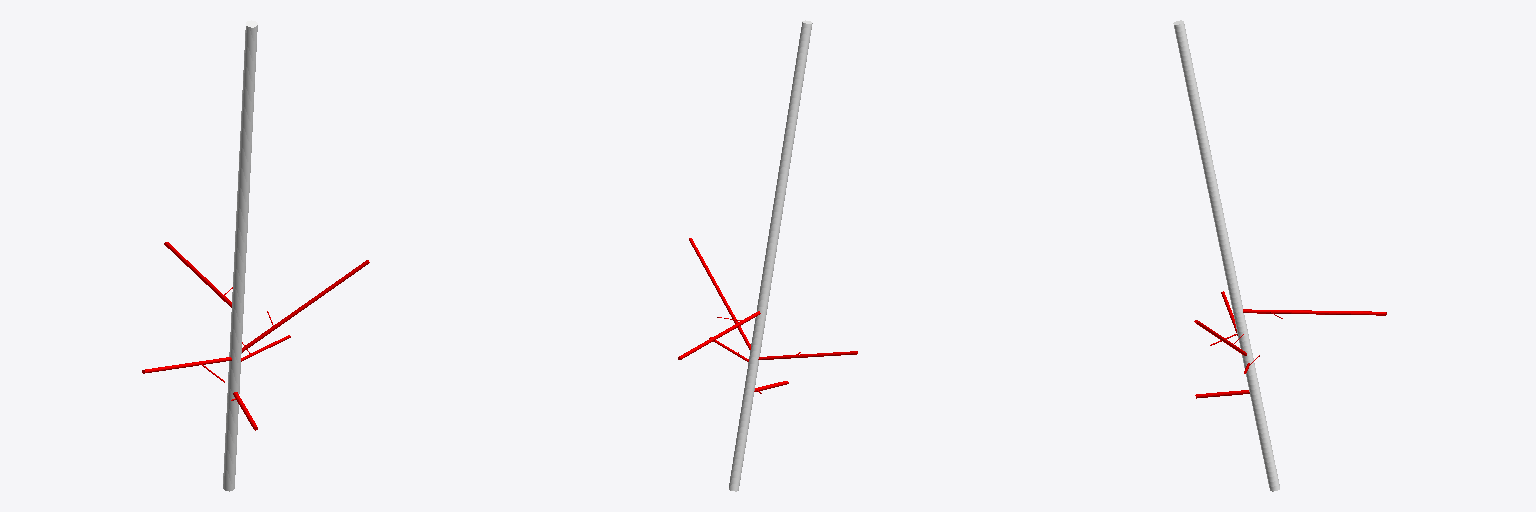
robot.urdf — tree_42.urdf:
<?xml version='1.0' encoding='UTF-8'?>
<robot name="tree_42.urdf">
  <link name="branch_0">
    <inertial>
      <origin xyz="0.0 0.0 0.0" rpy="0.0 -0.0 0.0"/>
      <mass value="0.1"/>
      <inertia ixx="0.001" ixy="0.0" ixz="0.0" iyy="0.001" iyz="0.0" izz="0.001"/>
    </inertial>
    <visual name="branch_0_visual">
      <geometry>
        <cylinder radius="0.12550144578736855" length="11.9668812540271"/>
      </geometry>
      <material name="branch_material"/>
      <origin xyz="-0.3767279269353214 -1.1313192091362532 5.86342516393811" rpy="-1.3877787807814457e-17 0.20062576816704825 -1.892245761334259"/>
    </visual>
    <collision name="branch_0_collision">
      <geometry>
        <cylinder radius="0.12550144578736855" length="11.9668812540271"/>
      </geometry>
      <origin xyz="-0.3767279269353214 -1.1313192091362532 5.86342516393811" rpy="-1.3877787807814457e-17 0.20062576816704825 -1.892245761334259"/>
    </collision>
  </link>
  <link name="branch_1">
    <inertial>
      <origin xyz="0.0 0.0 0.0" rpy="0.0 -0.0 0.0"/>
      <mass value="0.1"/>
      <inertia ixx="0.001" ixy="0.0" ixz="0.0" iyy="0.001" iyz="0.0" izz="0.001"/>
    </inertial>
    <visual name="branch_1_visual">
      <geometry>
        <cylinder radius="0.04604422783399576" length="3.48620799955485"/>
      </geometry>
      <material name="semantic_material"/>
      <origin xyz="0.0 0.0 0.0" rpy="0.0 -0.0 0.0"/>
    </visual>
    <collision name="branch_1_collision">
      <geometry>
        <cylinder radius="0.04604422783399576" length="3.48620799955485"/>
      </geometry>
      <origin xyz="0.0 0.0 0.0" rpy="0.0 -0.0 0.0"/>
    </collision>
  </link>
  <link name="branch_2">
    <inertial>
      <origin xyz="0.0 0.0 0.0" rpy="0.0 -0.0 0.0"/>
      <mass value="0.1"/>
      <inertia ixx="0.001" ixy="0.0" ixz="0.0" iyy="0.001" iyz="0.0" izz="0.001"/>
    </inertial>
    <visual name="branch_2_visual">
      <geometry>
        <cylinder radius="0.01" length="0.6906336275420638"/>
      </geometry>
      <material name="semantic_material"/>
      <origin xyz="0.0 0.0 0.0" rpy="0.0 -0.0 0.0"/>
    </visual>
    <collision name="branch_2_collision">
      <geometry>
        <cylinder radius="0.01" length="0.6906336275420638"/>
      </geometry>
      <origin xyz="0.0 0.0 0.0" rpy="0.0 -0.0 0.0"/>
    </collision>
  </link>
  <link name="branch_3">
    <inertial>
      <origin xyz="0.0 0.0 0.0" rpy="0.0 -0.0 0.0"/>
      <mass value="0.1"/>
      <inertia ixx="0.001" ixy="0.0" ixz="0.0" iyy="0.001" iyz="0.0" izz="0.001"/>
    </inertial>
    <visual name="branch_3_visual">
      <geometry>
        <cylinder radius="0.04947553780597372" length="1.4280641838978052"/>
      </geometry>
      <material name="semantic_material"/>
      <origin xyz="0.0 0.0 0.0" rpy="0.0 -0.0 0.0"/>
    </visual>
    <collision name="branch_3_collision">
      <geometry>
        <cylinder radius="0.04947553780597372" length="1.4280641838978052"/>
      </geometry>
      <origin xyz="0.0 0.0 0.0" rpy="0.0 -0.0 0.0"/>
    </collision>
  </link>
  <link name="branch_4">
    <inertial>
      <origin xyz="0.0 0.0 0.0" rpy="0.0 -0.0 0.0"/>
      <mass value="0.1"/>
      <inertia ixx="0.001" ixy="0.0" ixz="0.0" iyy="0.001" iyz="0.0" izz="0.001"/>
    </inertial>
    <visual name="branch_4_visual">
      <geometry>
        <cylinder radius="0.018145509635459776" length="0.16387304531280494"/>
      </geometry>
      <material name="semantic_material"/>
      <origin xyz="0.0 0.0 0.0" rpy="0.0 -0.0 0.0"/>
    </visual>
    <collision name="branch_4_collision">
      <geometry>
        <cylinder radius="0.018145509635459776" length="0.16387304531280494"/>
      </geometry>
      <origin xyz="0.0 0.0 0.0" rpy="0.0 -0.0 0.0"/>
    </collision>
  </link>
  <link name="branch_5">
    <inertial>
      <origin xyz="0.0 0.0 0.0" rpy="0.0 -0.0 0.0"/>
      <mass value="0.1"/>
      <inertia ixx="0.001" ixy="0.0" ixz="0.0" iyy="0.001" iyz="0.0" izz="0.001"/>
    </inertial>
    <visual name="branch_5_visual">
      <geometry>
        <cylinder radius="0.033296147677334055" length="1.3192619523455495"/>
      </geometry>
      <material name="semantic_material"/>
      <origin xyz="0.0 0.0 0.0" rpy="0.0 -0.0 0.0"/>
    </visual>
    <collision name="branch_5_collision">
      <geometry>
        <cylinder radius="0.033296147677334055" length="1.3192619523455495"/>
      </geometry>
      <origin xyz="0.0 0.0 0.0" rpy="0.0 -0.0 0.0"/>
    </collision>
  </link>
  <link name="branch_6">
    <inertial>
      <origin xyz="0.0 0.0 0.0" rpy="0.0 -0.0 0.0"/>
      <mass value="0.1"/>
      <inertia ixx="0.001" ixy="0.0" ixz="0.0" iyy="0.001" iyz="0.0" izz="0.001"/>
    </inertial>
    <visual name="branch_6_visual">
      <geometry>
        <cylinder radius="0.01" length="0.375022258465934"/>
      </geometry>
      <material name="semantic_material"/>
      <origin xyz="0.0 0.0 0.0" rpy="0.0 -0.0 0.0"/>
    </visual>
    <collision name="branch_6_collision">
      <geometry>
        <cylinder radius="0.01" length="0.375022258465934"/>
      </geometry>
      <origin xyz="0.0 0.0 0.0" rpy="0.0 -0.0 0.0"/>
    </collision>
  </link>
  <link name="branch_7">
    <inertial>
      <origin xyz="0.0 0.0 0.0" rpy="0.0 -0.0 0.0"/>
      <mass value="0.1"/>
      <inertia ixx="0.001" ixy="0.0" ixz="0.0" iyy="0.001" iyz="0.0" izz="0.001"/>
    </inertial>
    <visual name="branch_7_visual">
      <geometry>
        <cylinder radius="0.042629134184092046" length="3.4536958523291874"/>
      </geometry>
      <material name="semantic_material"/>
      <origin xyz="0.0 0.0 0.0" rpy="0.0 -0.0 0.0"/>
    </visual>
    <collision name="branch_7_collision">
      <geometry>
        <cylinder radius="0.042629134184092046" length="3.4536958523291874"/>
      </geometry>
      <origin xyz="0.0 0.0 0.0" rpy="0.0 -0.0 0.0"/>
    </collision>
  </link>
  <link name="branch_8">
    <inertial>
      <origin xyz="0.0 0.0 0.0" rpy="0.0 -0.0 0.0"/>
      <mass value="0.1"/>
      <inertia ixx="0.001" ixy="0.0" ixz="0.0" iyy="0.001" iyz="0.0" izz="0.001"/>
    </inertial>
    <visual name="branch_8_visual">
      <geometry>
        <cylinder radius="0.012359537044943324" length="0.38433088186565195"/>
      </geometry>
      <material name="semantic_material"/>
      <origin xyz="0.0 0.0 0.0" rpy="0.0 -0.0 0.0"/>
    </visual>
    <collision name="branch_8_collision">
      <geometry>
        <cylinder radius="0.012359537044943324" length="0.38433088186565195"/>
      </geometry>
      <origin xyz="0.0 0.0 0.0" rpy="0.0 -0.0 0.0"/>
    </collision>
  </link>
  <link name="branch_9">
    <inertial>
      <origin xyz="0.0 0.0 0.0" rpy="0.0 -0.0 0.0"/>
      <mass value="0.1"/>
      <inertia ixx="0.001" ixy="0.0" ixz="0.0" iyy="0.001" iyz="0.0" izz="0.001"/>
    </inertial>
    <visual name="branch_9_visual">
      <geometry>
        <cylinder radius="0.0416629449633001" length="2.661869681362872"/>
      </geometry>
      <material name="semantic_material"/>
      <origin xyz="0.0 0.0 0.0" rpy="0.0 -0.0 0.0"/>
    </visual>
    <collision name="branch_9_collision">
      <geometry>
        <cylinder radius="0.0416629449633001" length="2.661869681362872"/>
      </geometry>
      <origin xyz="0.0 0.0 0.0" rpy="0.0 -0.0 0.0"/>
    </collision>
  </link>
  <link name="branch_10">
    <inertial>
      <origin xyz="0.0 0.0 0.0" rpy="0.0 -0.0 0.0"/>
      <mass value="0.1"/>
      <inertia ixx="0.001" ixy="0.0" ixz="0.0" iyy="0.001" iyz="0.0" izz="0.001"/>
    </inertial>
    <visual name="branch_10_visual">
      <geometry>
        <cylinder radius="0.01657092490171824" length="0.7200894913164375"/>
      </geometry>
      <material name="semantic_material"/>
      <origin xyz="0.0 0.0 0.0" rpy="0.0 -0.0 0.0"/>
    </visual>
    <collision name="branch_10_collision">
      <geometry>
        <cylinder radius="0.01657092490171824" length="0.7200894913164375"/>
      </geometry>
      <origin xyz="0.0 0.0 0.0" rpy="0.0 -0.0 0.0"/>
    </collision>
  </link>
  <joint name="joint_0_1" type="fixed">
    <parent link="branch_0"/>
    <child link="branch_1"/>
    <axis xyz="1. 0. 0."/>
    <origin xyz="-0.1395587815644889 0.8728501832310624 4.512637663916314" rpy="-1.150315865852693 1.5188724866585732 0.3349462130040676"/>
  </joint>
  <joint name="joint_0_3" type="fixed">
    <parent link="branch_0"/>
    <child link="branch_3"/>
    <axis xyz="1. 0. 0."/>
    <origin xyz="-0.2890911166166984 -1.1653943757682852 2.335167400864161" rpy="2.994411452147271 1.3910604427830835 1.2338242600489608"/>
  </joint>
  <joint name="joint_0_5" type="fixed">
    <parent link="branch_0"/>
    <child link="branch_5"/>
    <axis xyz="1. 0. 0."/>
    <origin xyz="0.4298526687107076 -0.6563822956573966 3.336292450208473" rpy="0.607752862657296 1.2304596972538242 0.560708621568394"/>
  </joint>
  <joint name="joint_0_7" type="fixed">
    <parent link="branch_0"/>
    <child link="branch_7"/>
    <axis xyz="1. 0. 0."/>
    <origin xyz="1.0343427890668537 -1.2520471298910383 4.386253163341926" rpy="0.32330131699390424 0.8929485768354936 -0.043742271789843815"/>
  </joint>
  <joint name="joint_0_9" type="fixed">
    <parent link="branch_0"/>
    <child link="branch_9"/>
    <axis xyz="1. 0. 0."/>
    <origin xyz="-1.4820937703759725 -0.9286185749524887 3.5410077743206956" rpy="-0.7279299682168493 1.3057062823770667 2.6244465422567367"/>
  </joint>
  <joint name="joint_1_2" type="fixed">
    <parent link="branch_0"/>
    <child link="branch_2"/>
    <axis xyz="1. 0. 0."/>
    <origin xyz="0.08127473760410073 0.022709518893197948 4.540055185536516" rpy="-1.4289496890983788 -0.060427353383245744 -1.1189030859648148"/>
  </joint>
  <joint name="joint_3_4" type="fixed">
    <parent link="branch_0"/>
    <child link="branch_4"/>
    <axis xyz="1. 0. 0."/>
    <origin xyz="-0.28675104989785094 -0.7299407884790567 2.3902215493523995" rpy="-1.8244953115926346 -0.19620242493096413 1.3129682079726128"/>
  </joint>
  <joint name="joint_5_6" type="fixed">
    <parent link="branch_0"/>
    <child link="branch_6"/>
    <axis xyz="1. 0. 0."/>
    <origin xyz="0.12549007378928398 -0.4981934228693869 3.3800214888490037" rpy="0.8370585490000249 0.3544329520523905 -3.1294132638179835"/>
  </joint>
  <joint name="joint_7_8" type="fixed">
    <parent link="branch_0"/>
    <child link="branch_8"/>
    <axis xyz="1. 0. 0."/>
    <origin xyz="0.5044441129191559 -0.8698294219535095 4.098494566112779" rpy="0.5804069616104957 0.492601720274127 2.5719125964688447"/>
  </joint>
  <joint name="joint_9_10" type="fixed">
    <parent link="branch_0"/>
    <child link="branch_10"/>
    <axis xyz="1. 0. 0."/>
    <origin xyz="-1.0811210971169312 -1.1876264715660665 3.374614187749496" rpy="1.8725895339671832 0.15887734076845952 0.3574510388693626"/>
  </joint>
  <material name="branch_material">
    <color rgba="1. 1. 1. 1."/>
  </material>
  <material name="semantic_material">
    <color rgba="1. 0. 0. 1."/>
  </material>
</robot>

--- What the picture shows (computed from the rendered views, not written in the file) ---
The picture shows the robot from 3 angles, left to right: view 1: azimuth 30°, elevation 25°; view 2: azimuth 150°, elevation 25°; view 3: azimuth 270°, elevation 25°; orthographic projection.
Robot: tree_42.urdf — 11 links, 10 joints (10 fixed); root link branch_0; default pose: every joint at zero.
Links seen in each view (by area): view 1: branch_0, branch_7; view 2: branch_0; view 3: branch_0, branch_1.
Link boxes in pixels (x1=…): branch_0: x1=223, y1=20, x2=257, y2=491; branch_7: x1=242, y1=260, x2=369, y2=352; branch_0: x1=729, y1=20, x2=812, y2=491; branch_0: x1=1173, y1=20, x2=1279, y2=491; branch_1: x1=1243, y1=309, x2=1386, y2=315.
Bounding box of the posed robot: 5.08 × 5 × 11.78 m (x, y, z).
Geometry: primitives only (box / cylinder / sphere), no mesh files.
